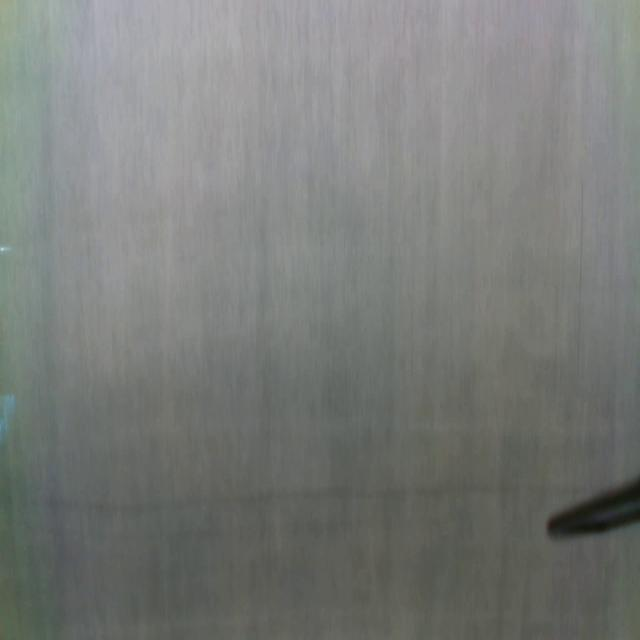color bleeding: (0, 474, 549, 518)
crease: (573, 177, 587, 383)
